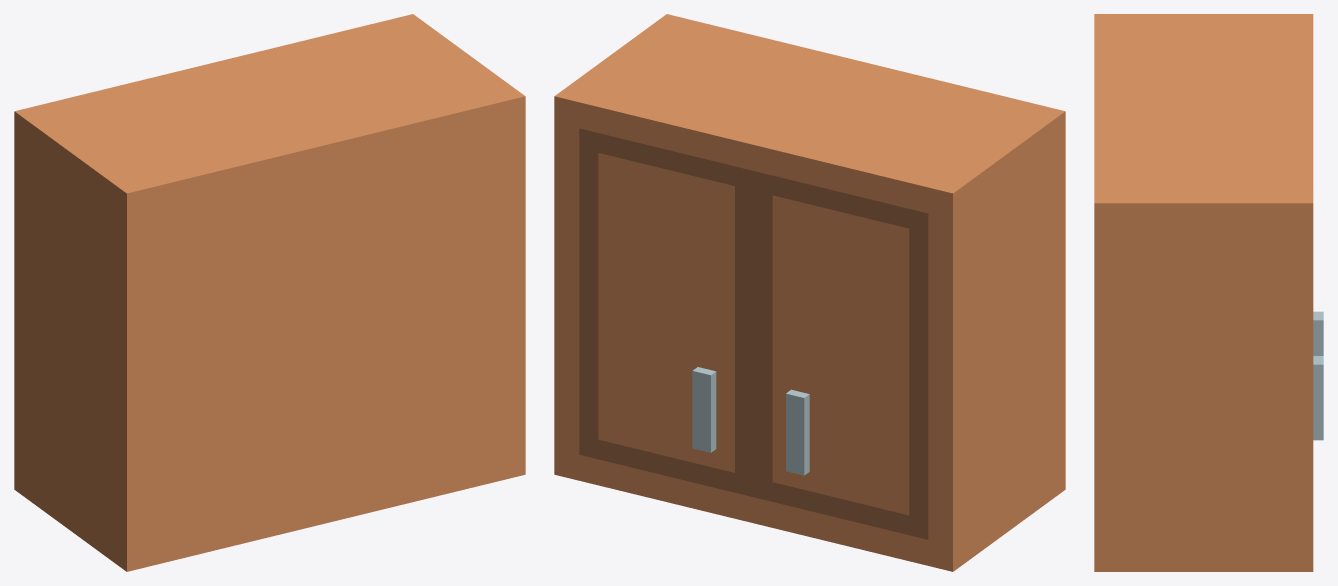
The model's file is kitchen_cabinet_upper_double.obj.
3 renders of one model, left to right at view 1: azimuth 30°, elevation 25°; view 2: azimuth 150°, elevation 25°; view 3: azimuth 270°, elevation 25°, orthographic. The views are drawn at different scales.
Visible parts, largest first — view 1: kitchenCabinetUpperDouble:doorLeft1; view 2: kitchenCabinetUpperDouble:doorLeft1; view 3: kitchenCabinetUpperDouble:doorLeft1.
Boxes of the visible parts, box(x1,y1,x2,y2) form: kitchenCabinetUpperDouble:doorLeft1: box(14, 14, 525, 571); kitchenCabinetUpperDouble:doorLeft1: box(554, 14, 1065, 571); kitchenCabinetUpperDouble:doorLeft1: box(1094, 14, 1323, 571).
Bounding box in the file's own units: 0.43 × 0.39 × 0.22.
